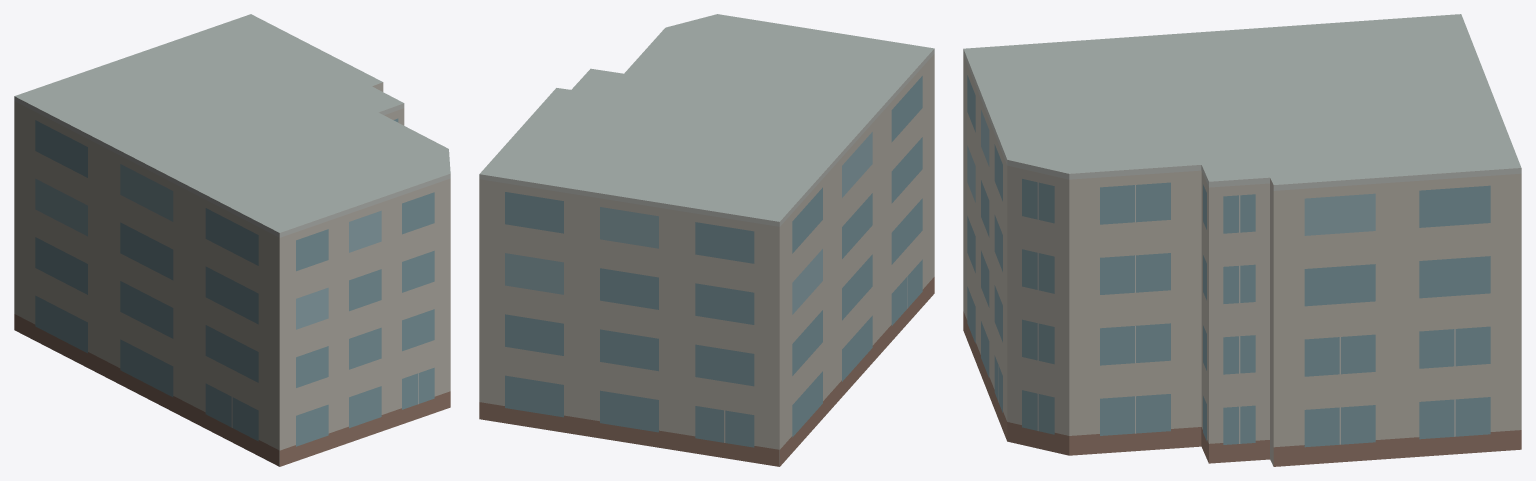
Rendered from survey-upis-33041425.glb.
3 renders of one model, left to right at view 1: azimuth 30°, elevation 25°; view 2: azimuth 150°, elevation 25°; view 3: azimuth 270°, elevation 25°, orthographic. The views are drawn at different scales.
Parts seen in each view (by area): view 1: survey-upis-33041425.tmp; view 2: survey-upis-33041425.tmp; view 3: survey-upis-33041425.tmp.
Boxes of the visible parts, x1,y1,x2,y2 form: survey-upis-33041425.tmp: [14, 14, 450, 466]; survey-upis-33041425.tmp: [479, 14, 934, 466]; survey-upis-33041425.tmp: [963, 14, 1521, 466].
Size of the model in its own units: 15.45 by 11.85 by 21.28.
